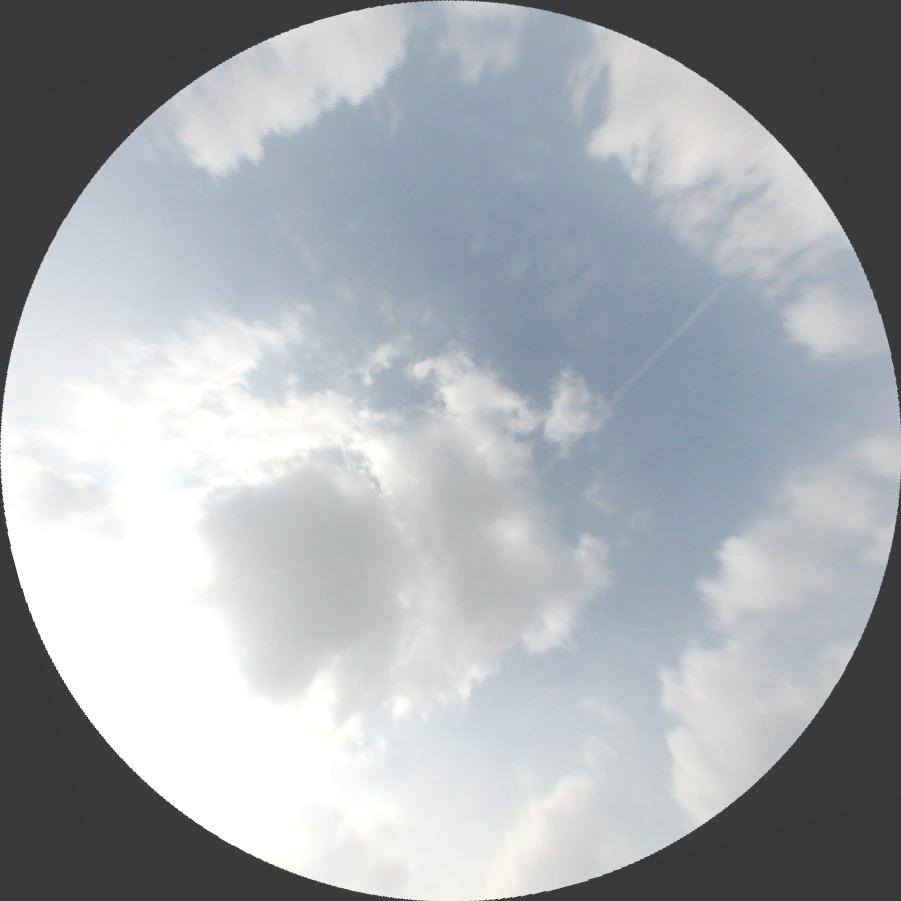contrail old: (532, 274, 736, 482)
sun: (0, 490, 298, 823)
